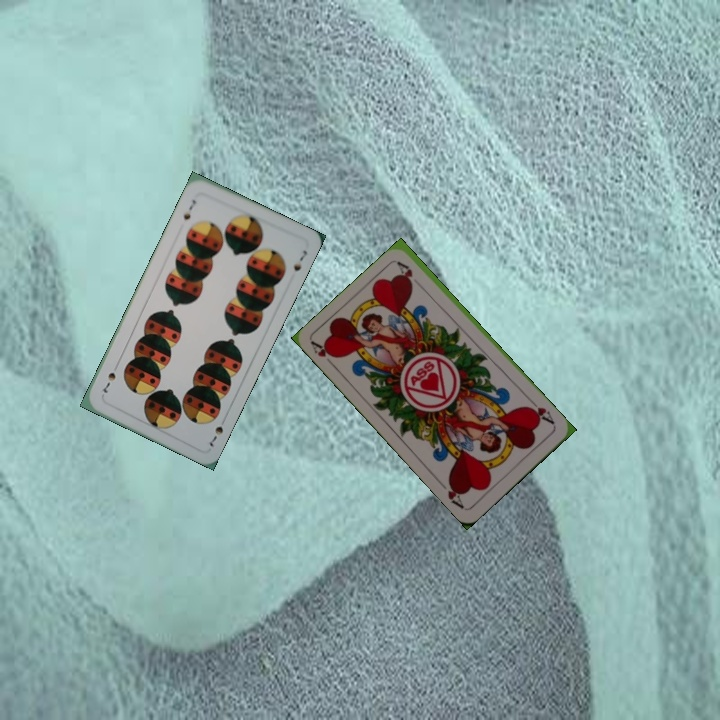HA: (523, 395, 557, 427), (308, 338, 340, 371)
S7: (205, 413, 229, 450), (179, 195, 198, 223)
